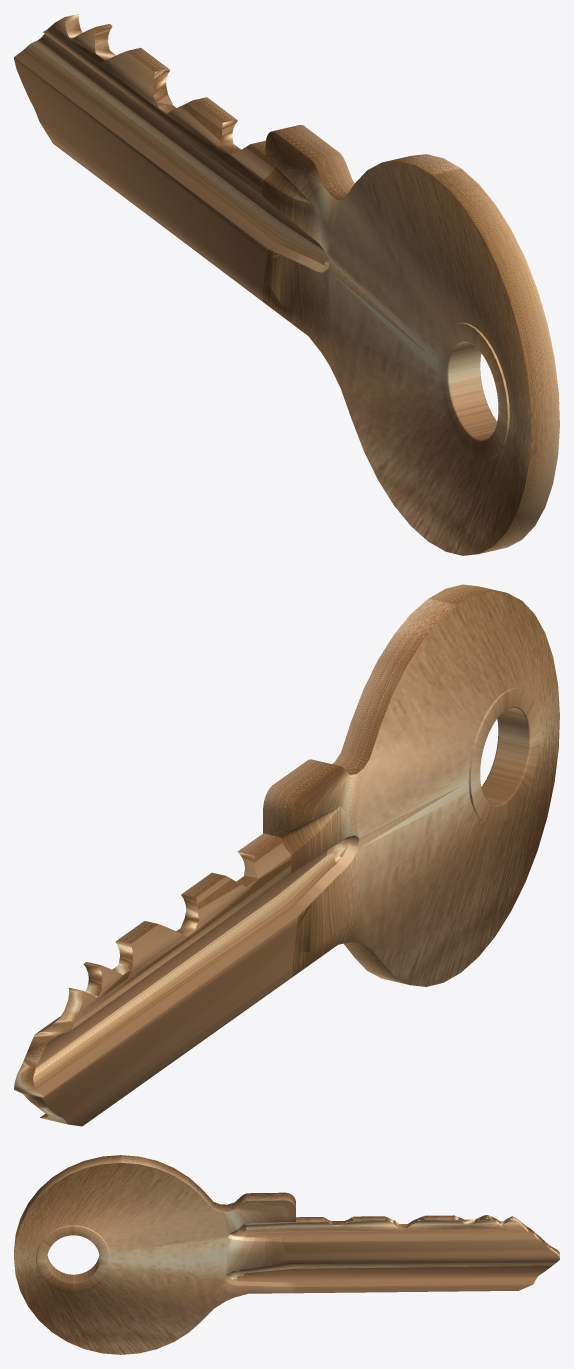
Rendered from llave.obj.
The picture shows the model from 3 angles, top to bottom: view 1: azimuth 30°, elevation 25°; view 2: azimuth 150°, elevation 25°; view 3: azimuth 270°, elevation 25°; orthographic projection. The views are drawn at different scales.
Visible parts, largest first — view 1: Key; view 2: Key; view 3: Key.
Part boxes in pixels (x1=…): Key: x1=14, y1=14, x2=559, y2=555; Key: x1=14, y1=584, x2=559, y2=1126; Key: x1=14, y1=1155, x2=559, y2=1354.
Bounding box in the file's own units: 4.26 × 43.14 × 110.
